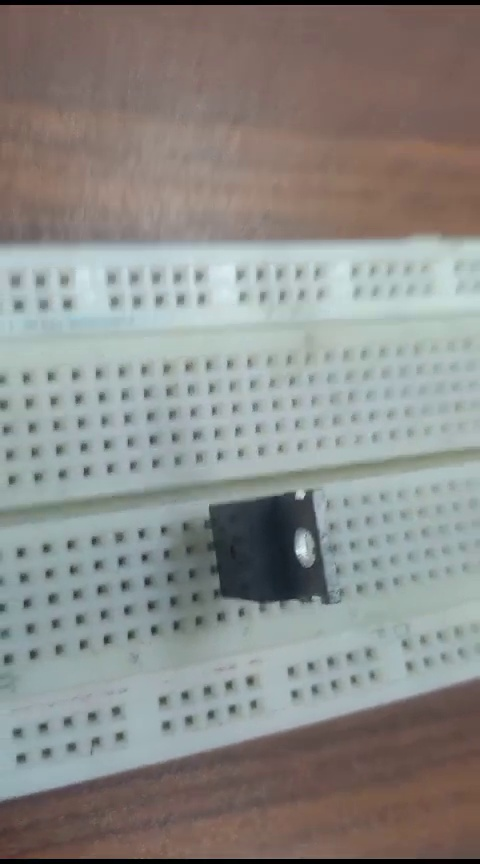voltage regulator: (202, 483, 361, 641)
